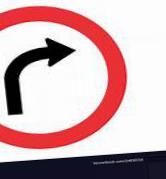right: (1, 5, 129, 149)
